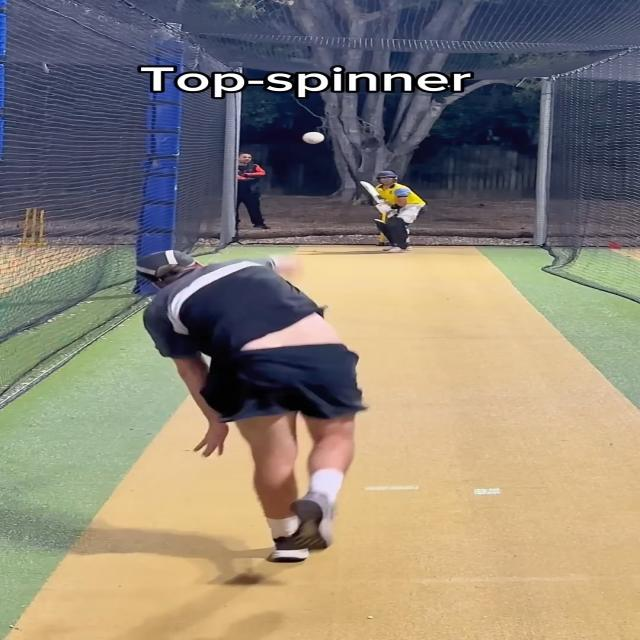Cricket ball: (302, 131, 325, 145)
